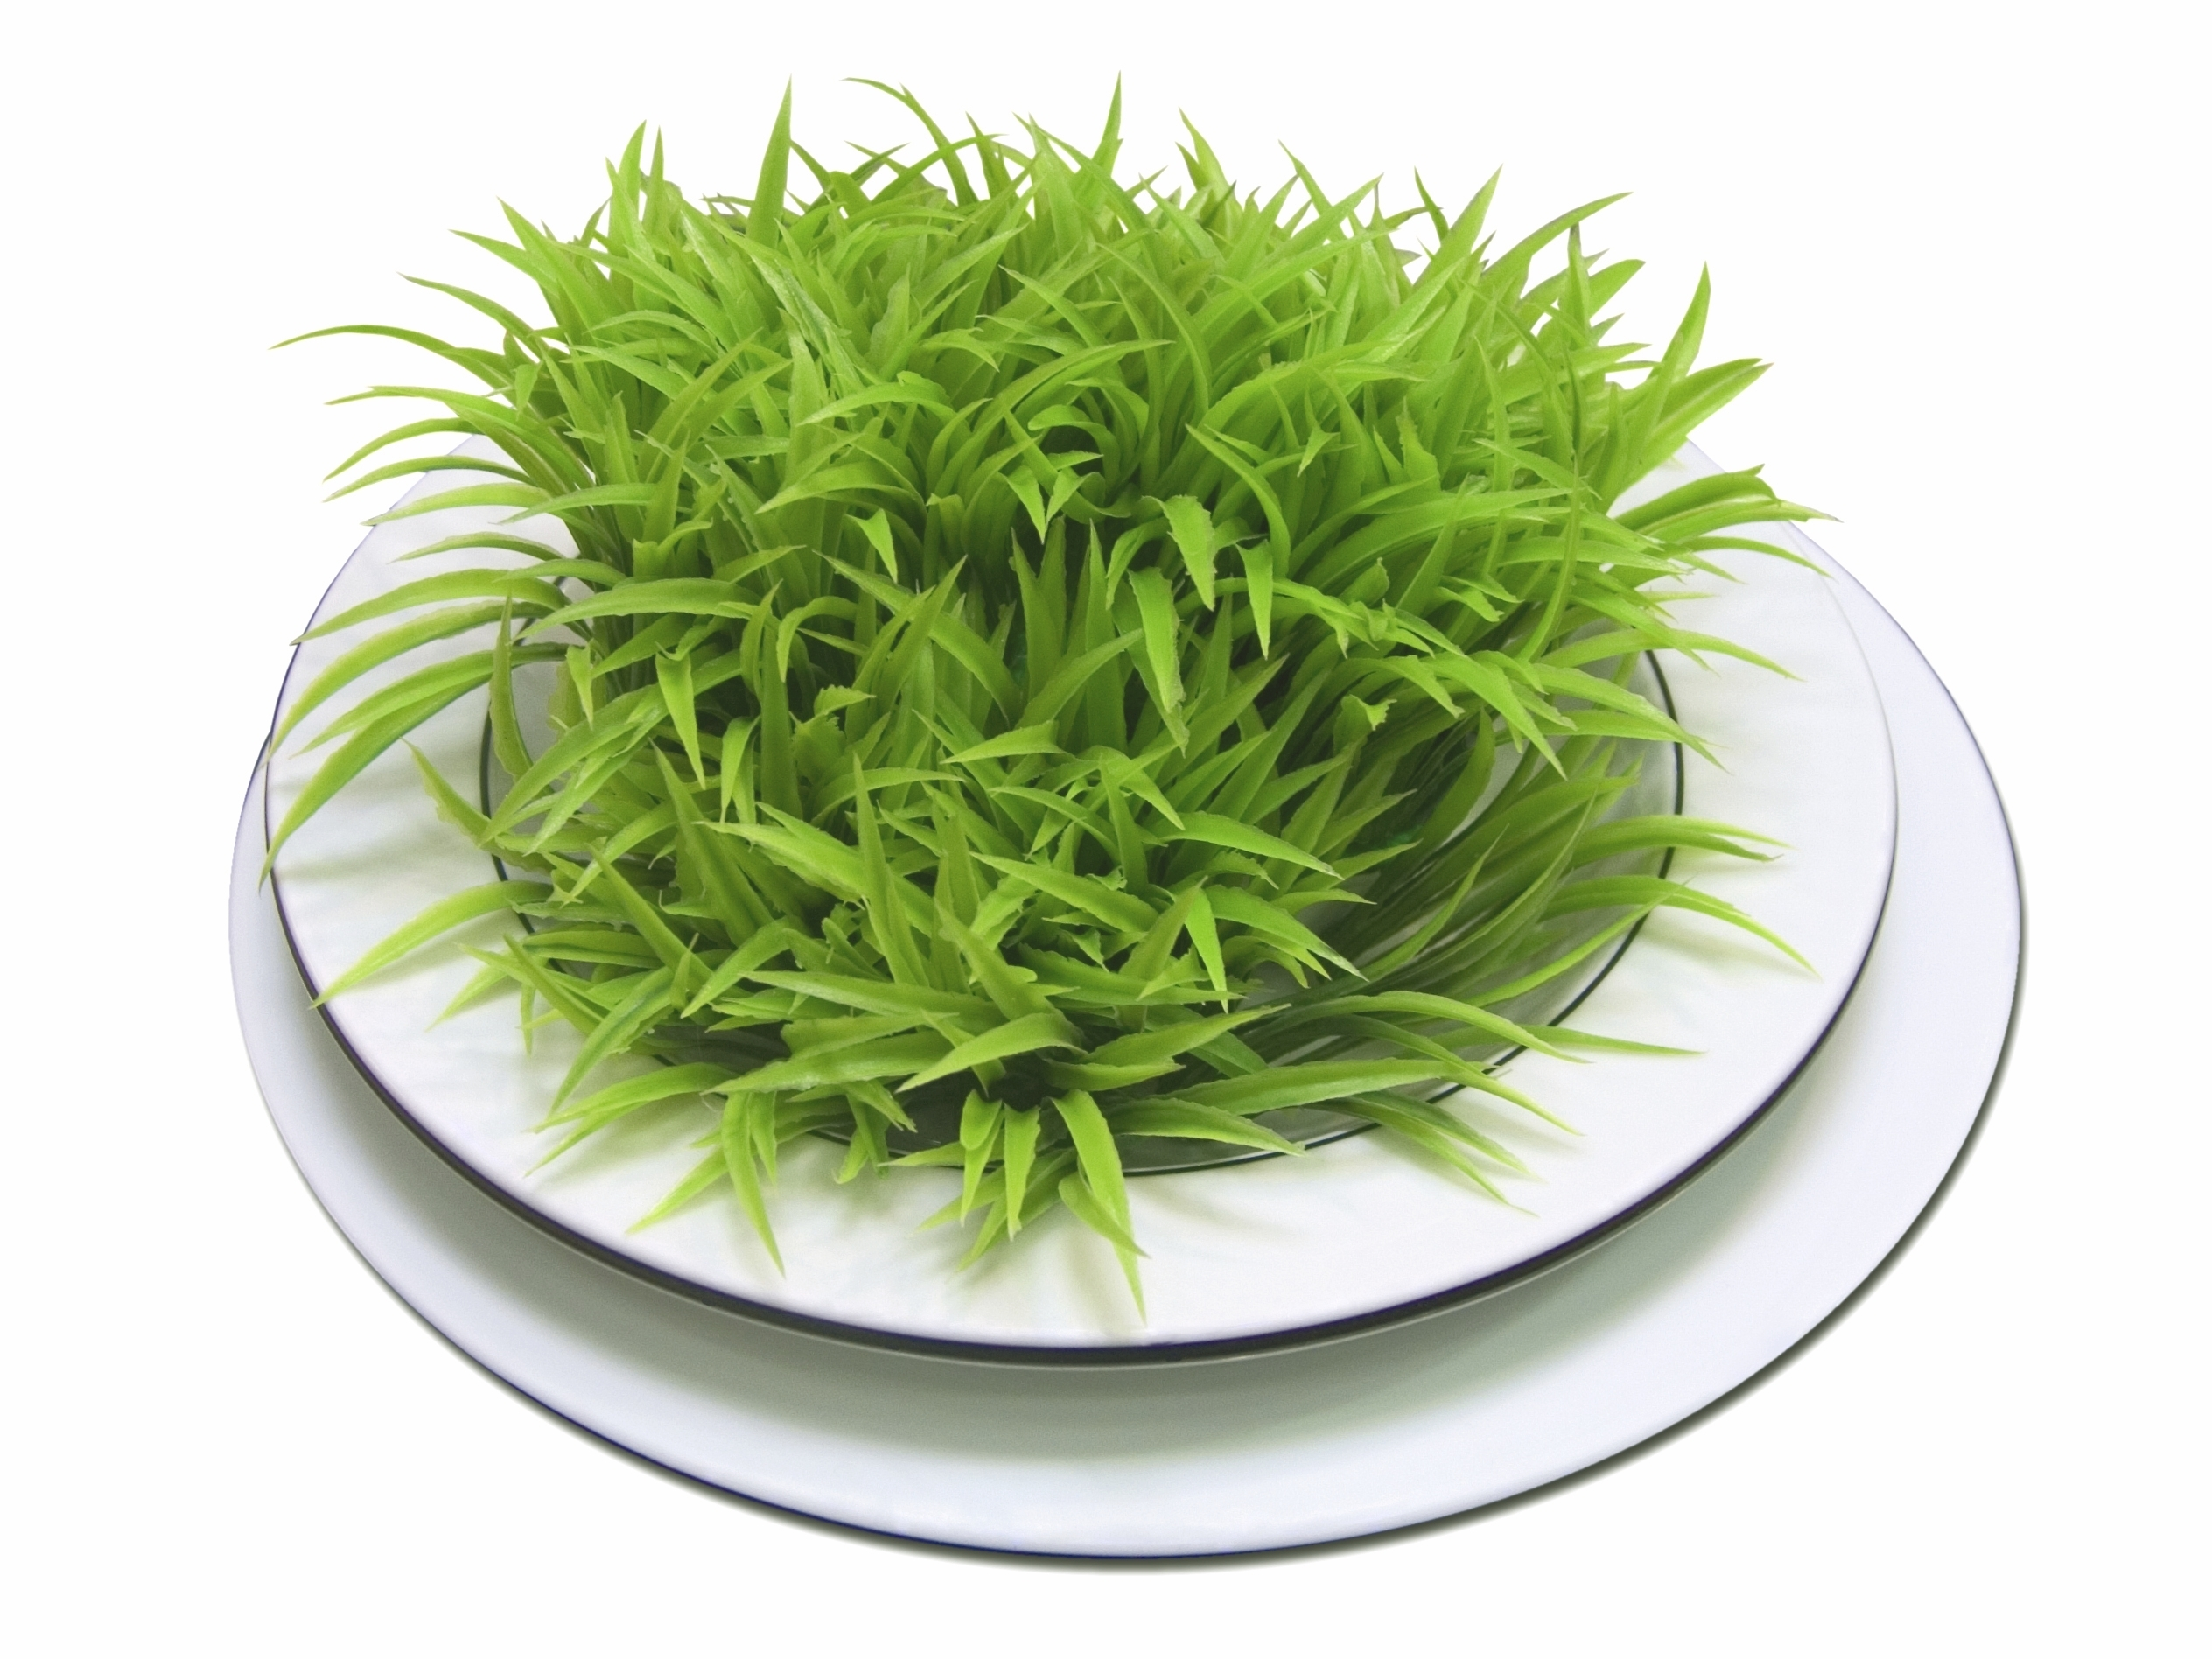grass: (543, 258, 1521, 1046)
